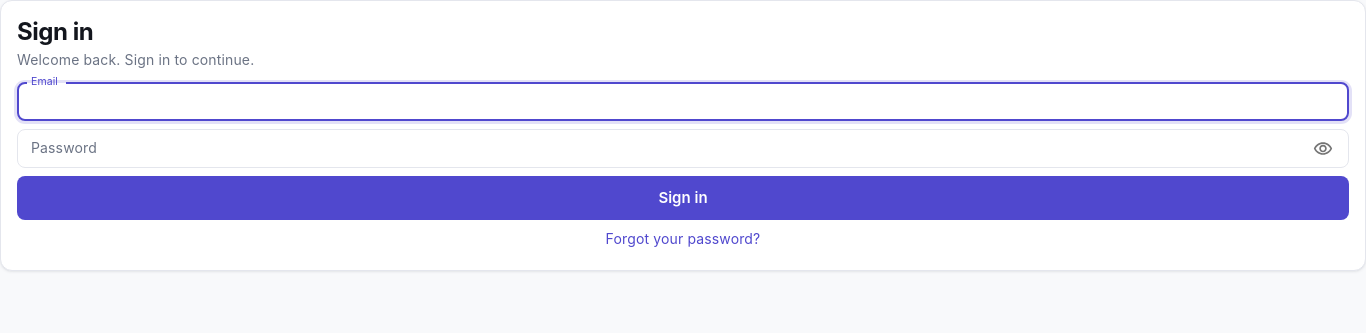
Test: LoginForm › refuses to submit an empty form and says why, per field
Click the button "Sign in". click: coordinates (683, 198)
box: [17,176,1349,220]
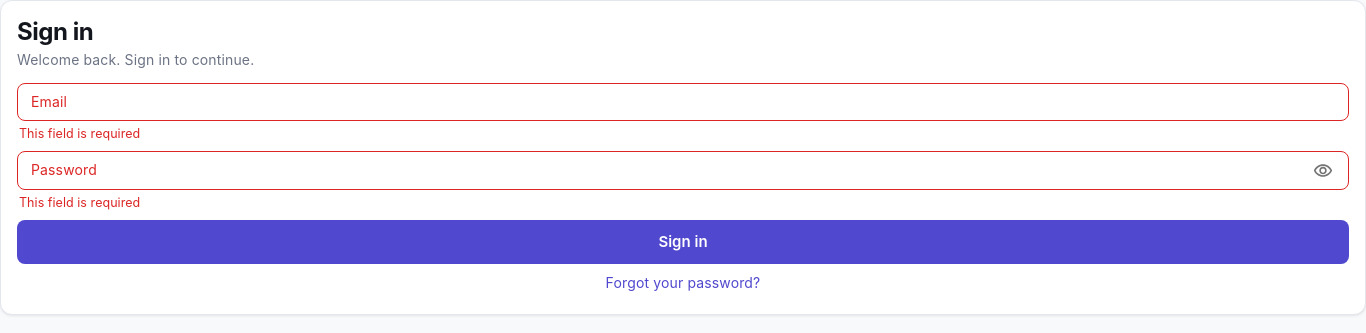
Now the text "This field is required" is shown 2 times, box [19,126,140,141]; [19,195,140,210]
